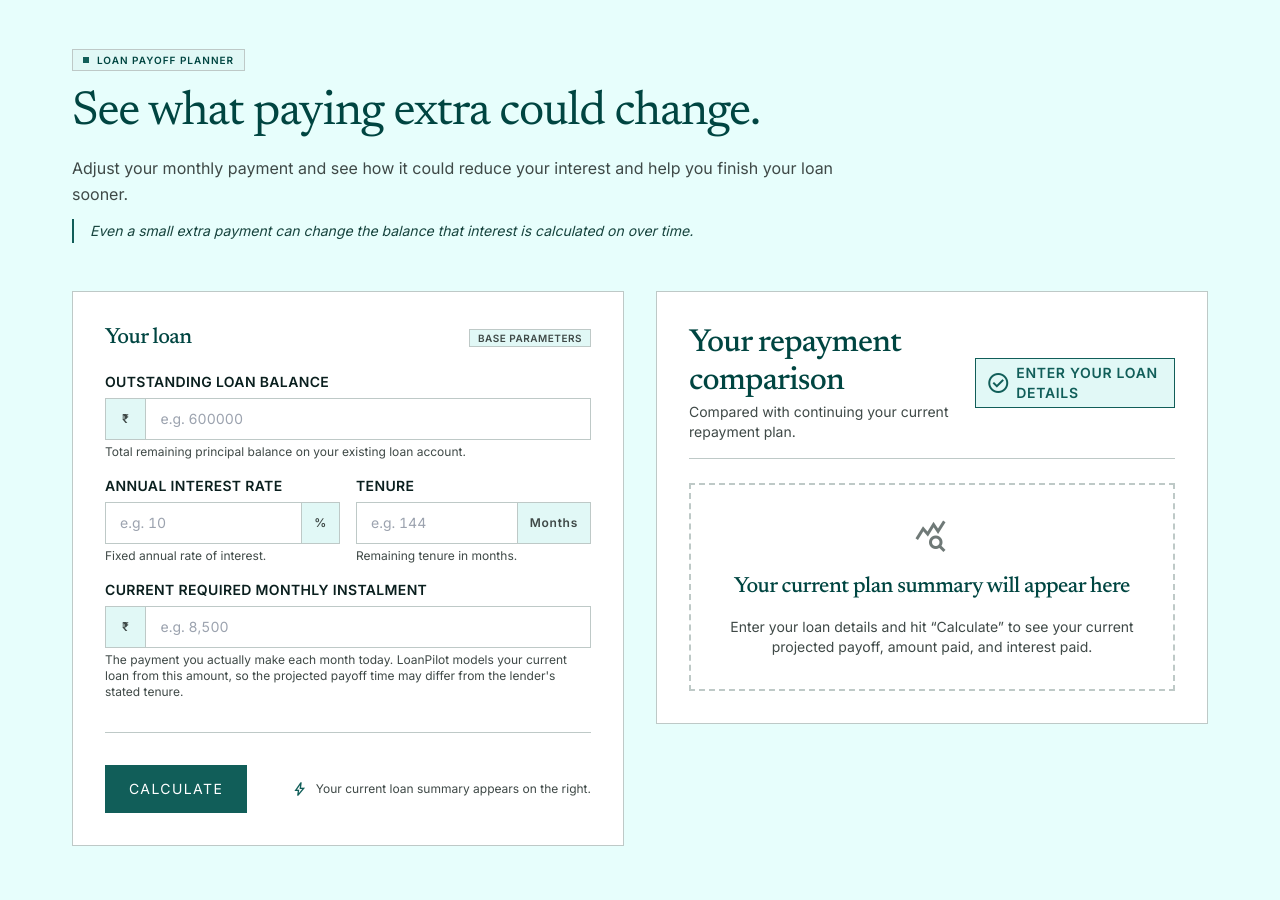
Test: EMI guidance and auto-scroll › shows a highlighted EMI hint when Calculate is pressed without an instalment
Type "500000" into the field labelled "Outstanding loan balance" at [368, 419], box [146,399,590,439]
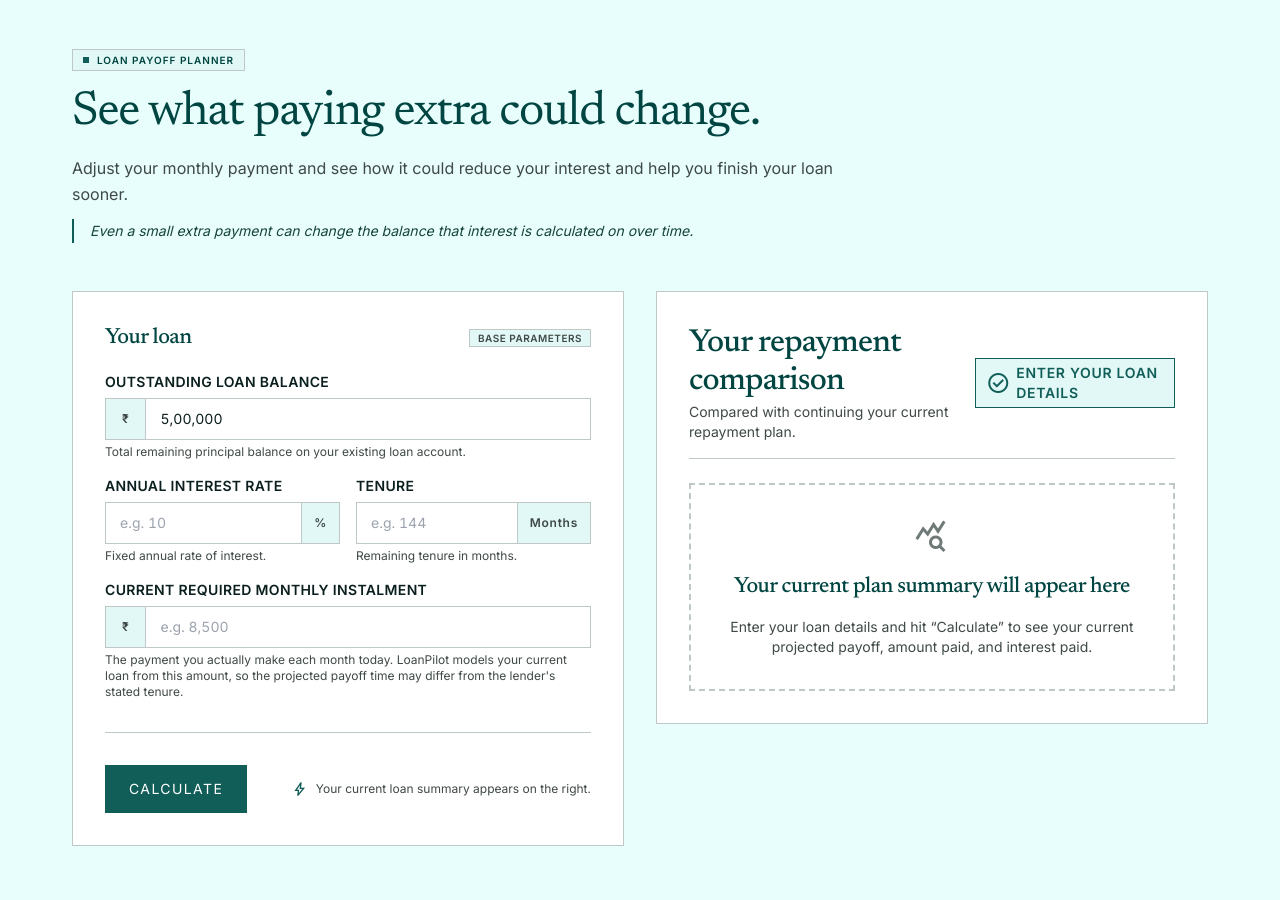
Type "10" into the field labelled "Annual interest rate" at [204, 523], box [106,503,301,543]
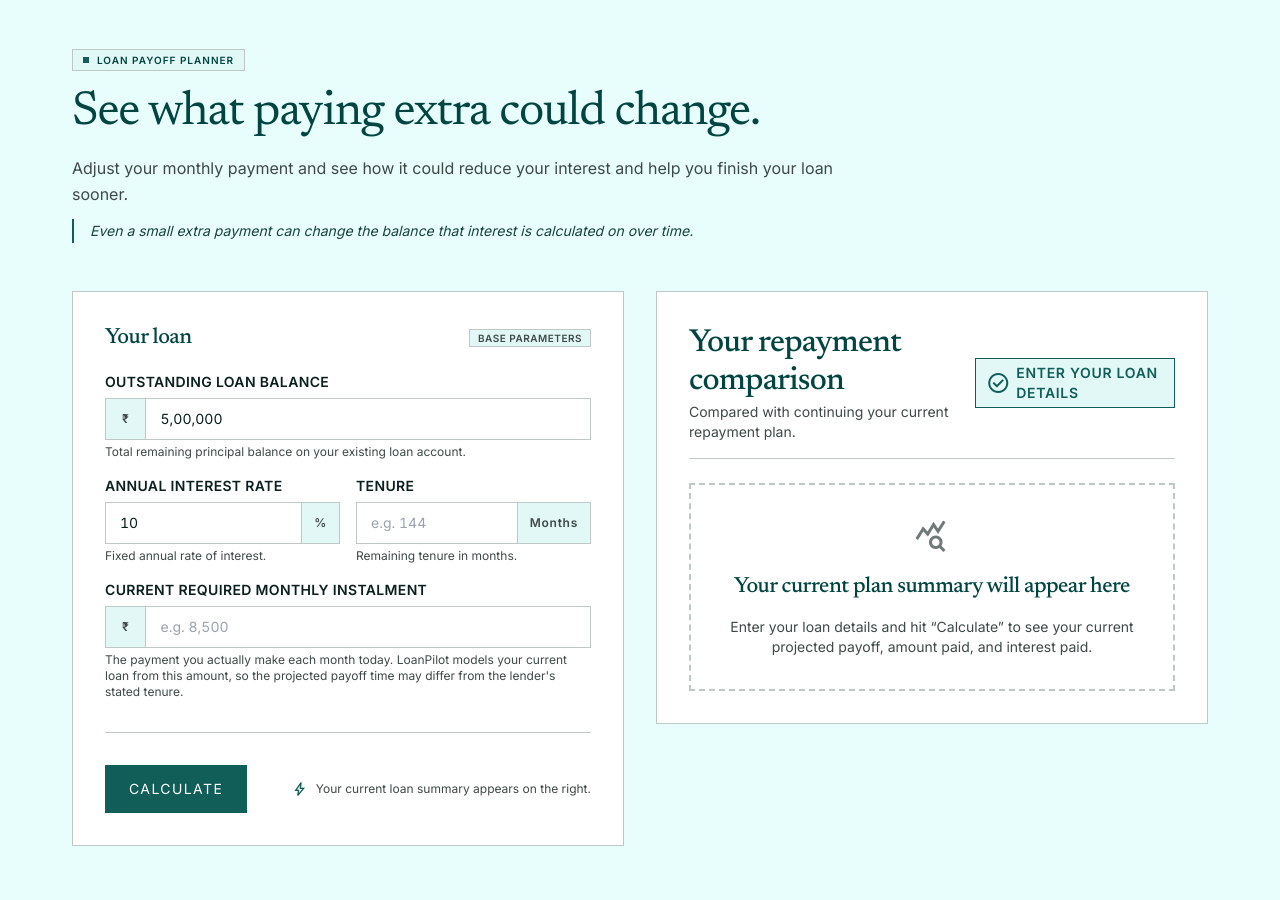
Type "120" into the field labelled "Tenure" at [437, 523], box [357,503,517,543]
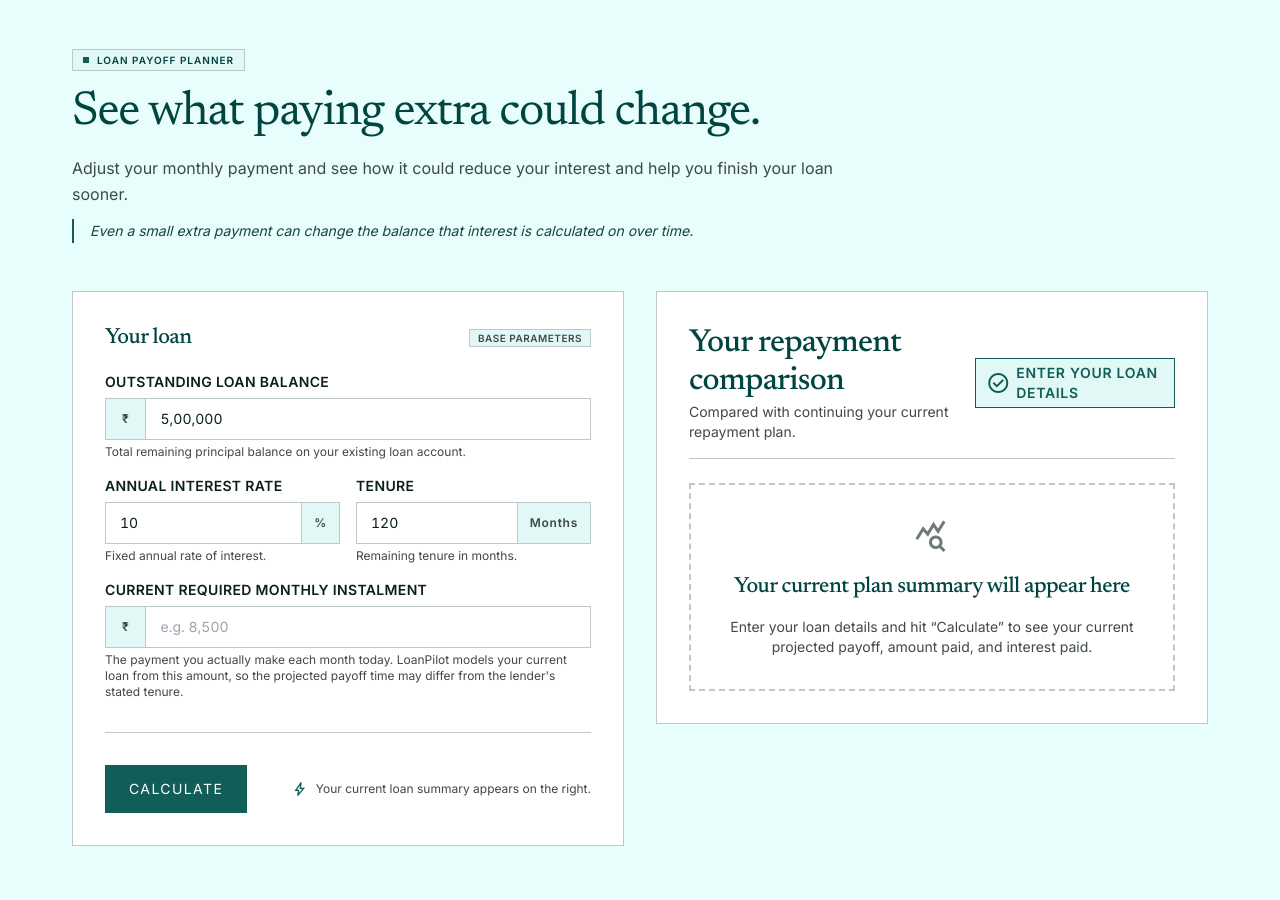
Click the button "Calculate" at [176, 789], box [105,765,247,813]
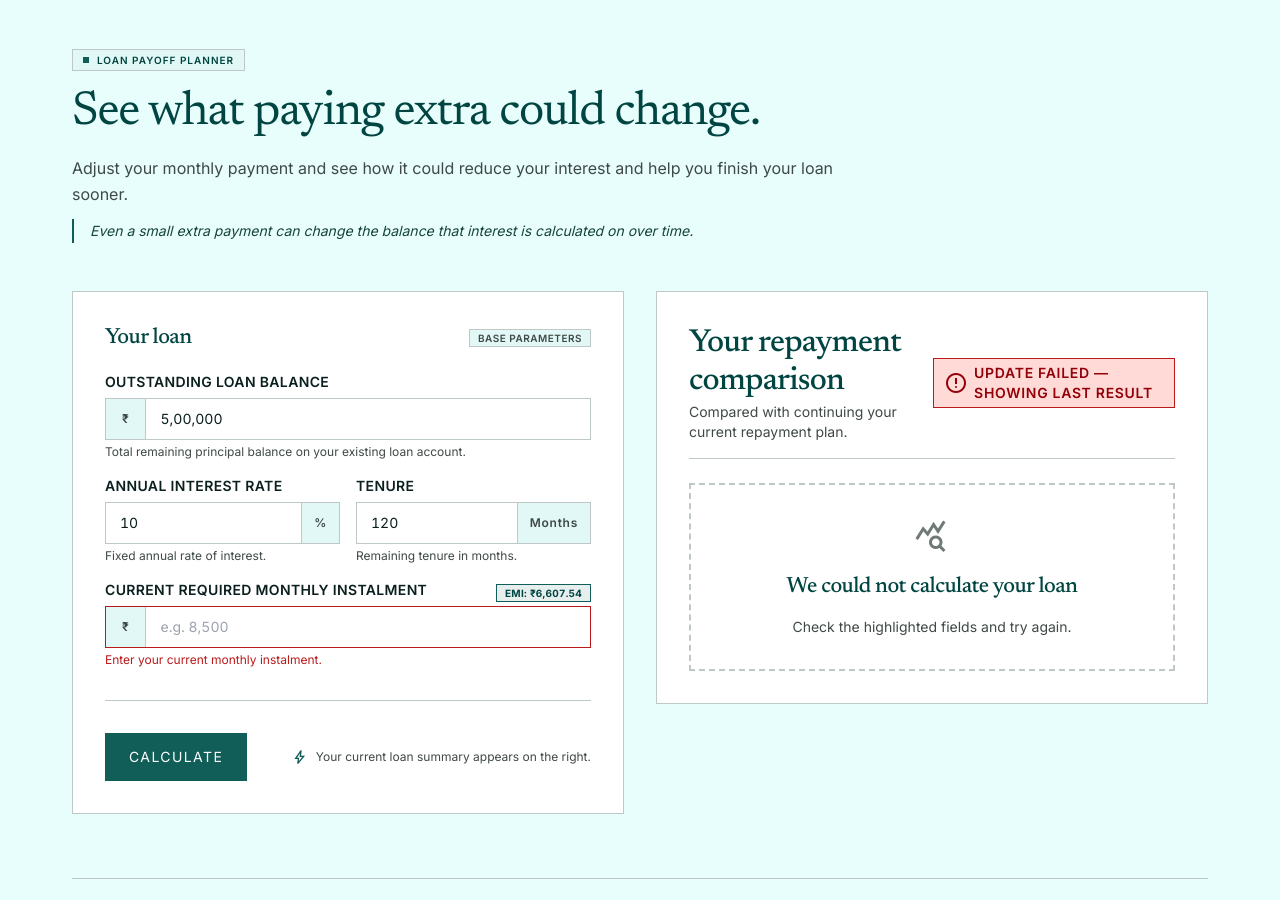
Check: the text "Enter your current monthly instalment." is shown, box [105,652,322,667]
Check: the text "EMI: ₹6,607.54" is shown, box [496,584,591,602]
